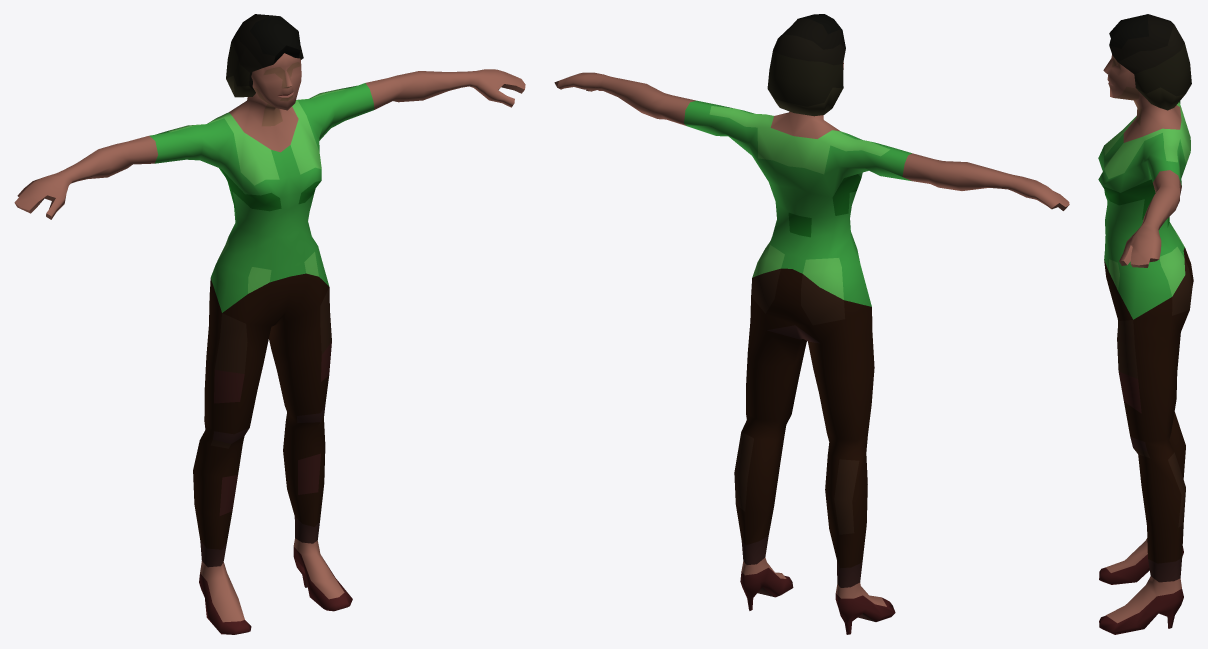
Rendered from Female_Model_2.FBX.
The picture shows the model from 3 angles, left to right: view 1: azimuth 30°, elevation 25°; view 2: azimuth 150°, elevation 25°; view 3: azimuth 270°, elevation 25°; orthographic projection.
Parts seen in each view (by area): view 1: lpFemale_casual_G004; view 2: lpFemale_casual_G004; view 3: lpFemale_casual_G004.
Boxes of the visible parts, left/top/right/bottom form: lpFemale_casual_G004: left=14, top=14, right=525, bottom=634; lpFemale_casual_G004: left=554, top=14, right=1069, bottom=634; lpFemale_casual_G004: left=1098, top=14, right=1193, bottom=634.
Bounding box in the file's own units: 60.9 × 67.73 × 9.98.
